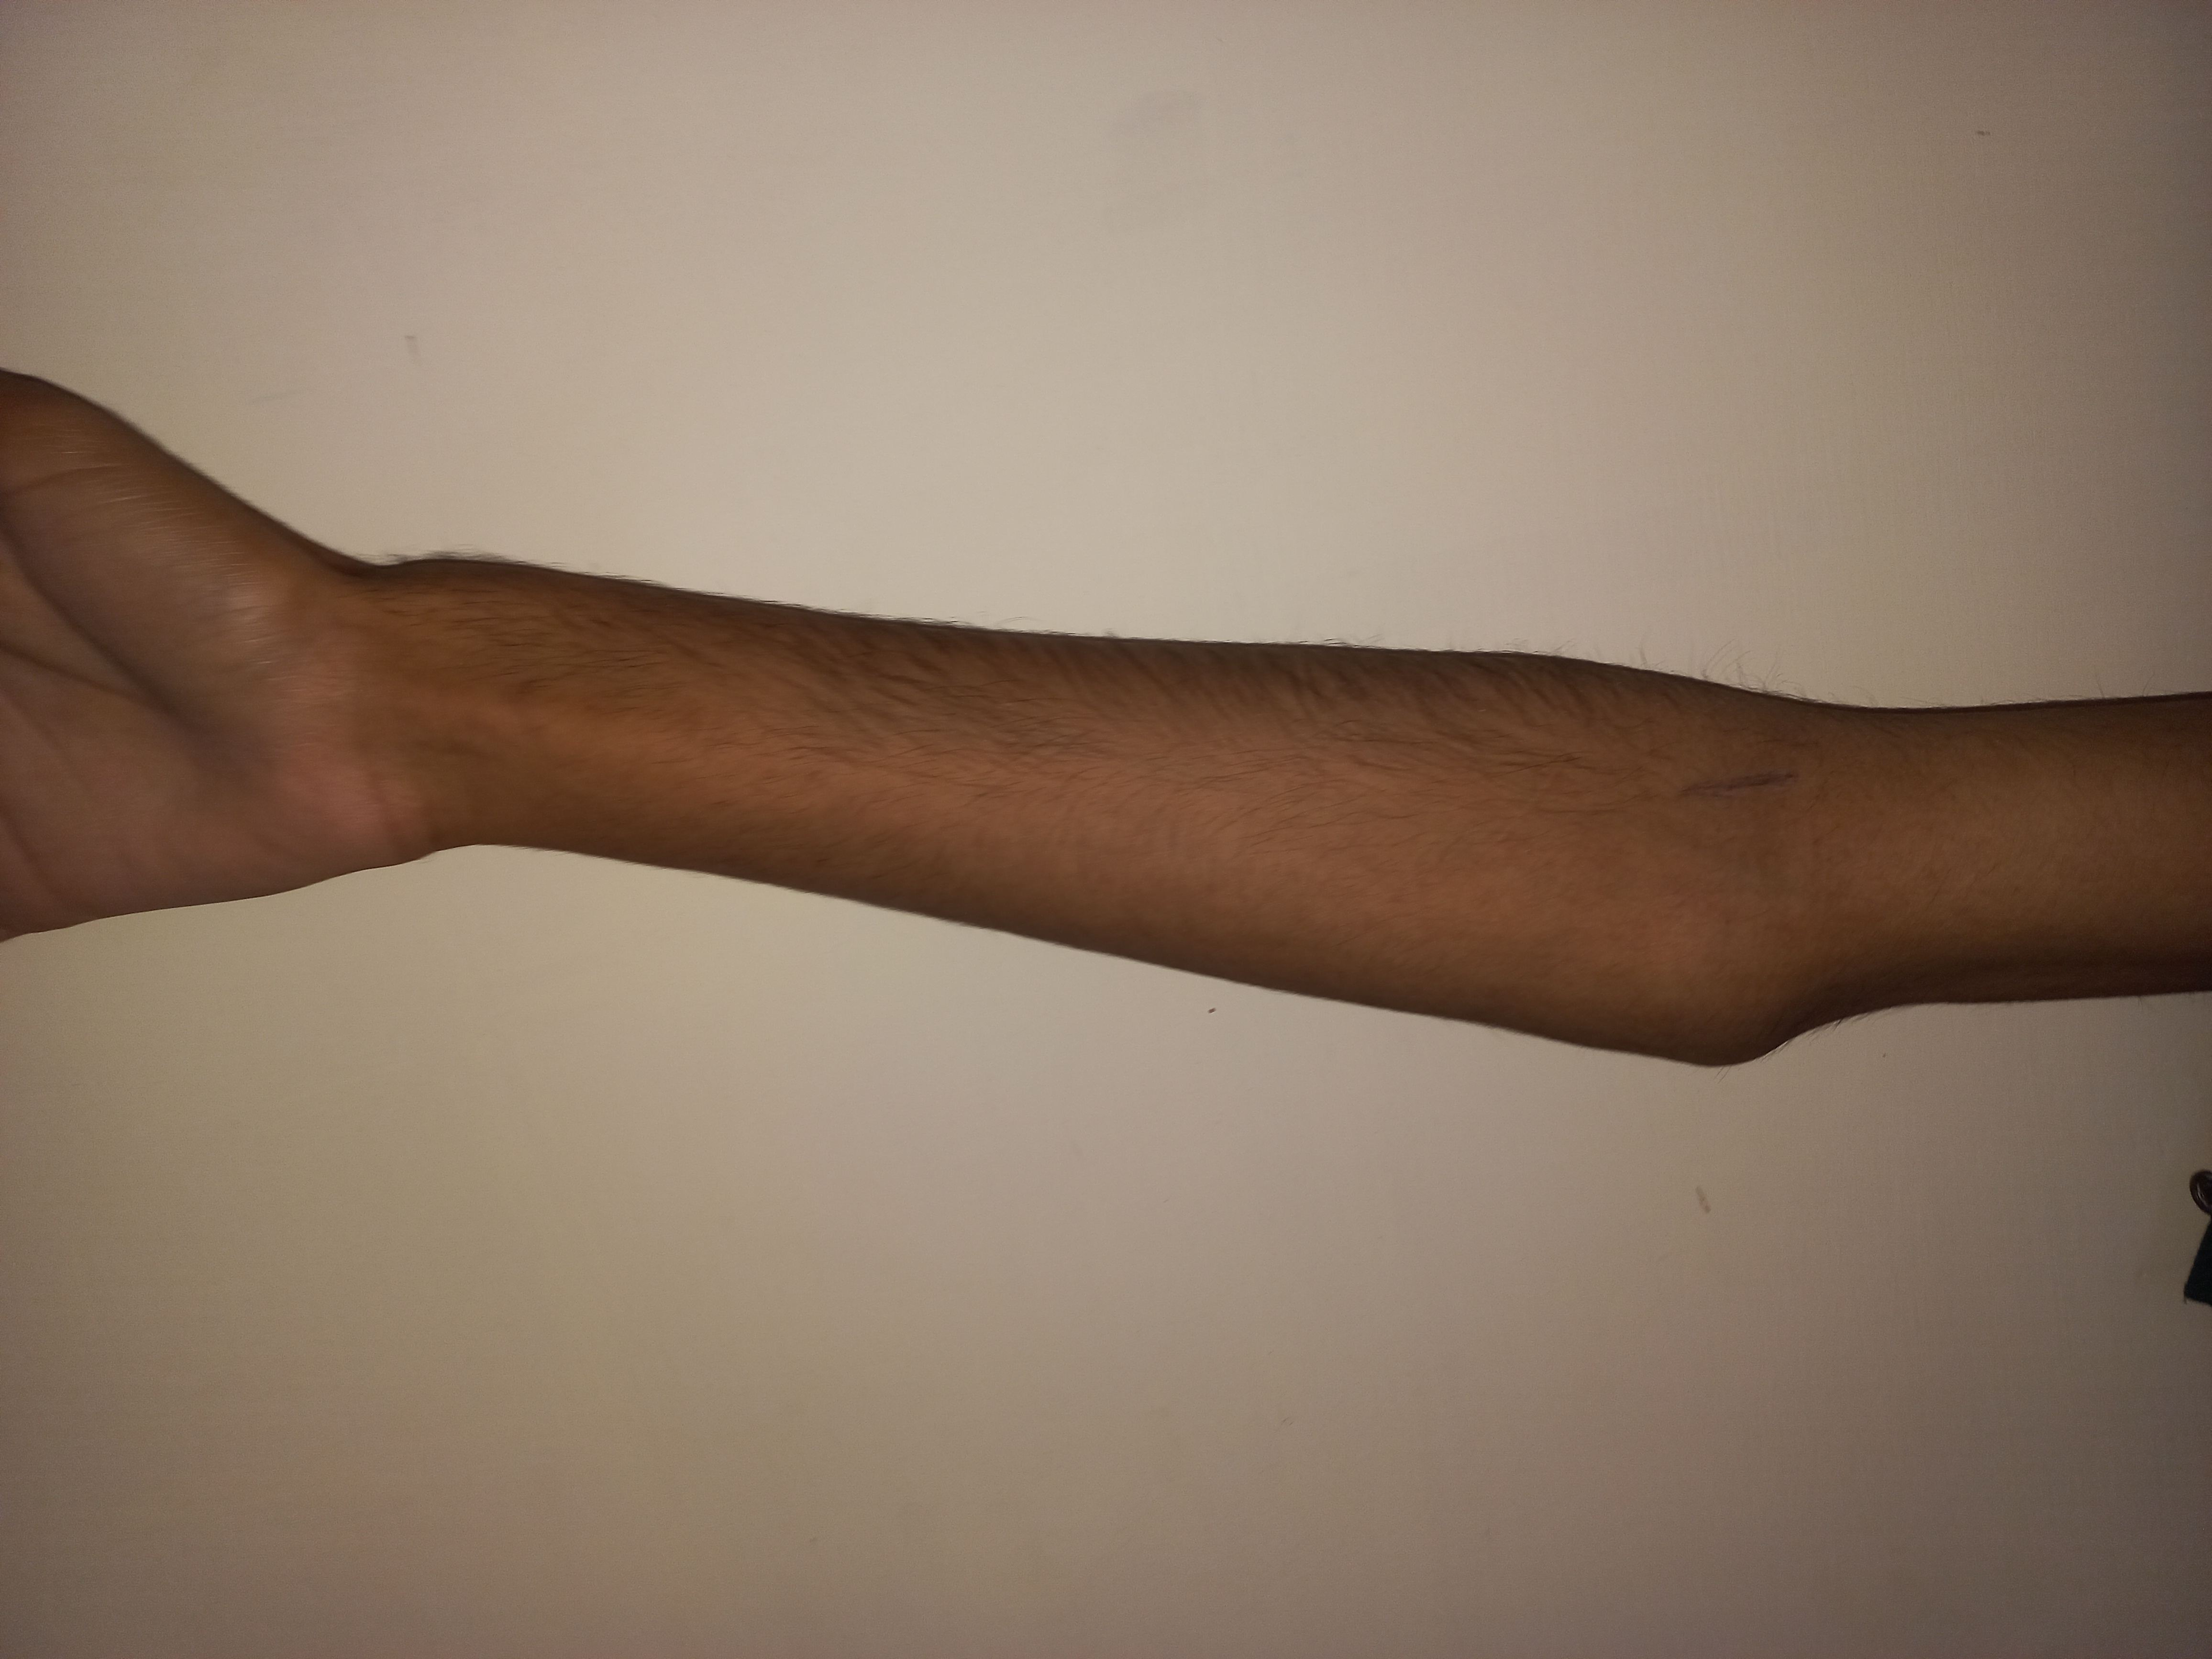vein: (1672, 758, 1820, 819)
